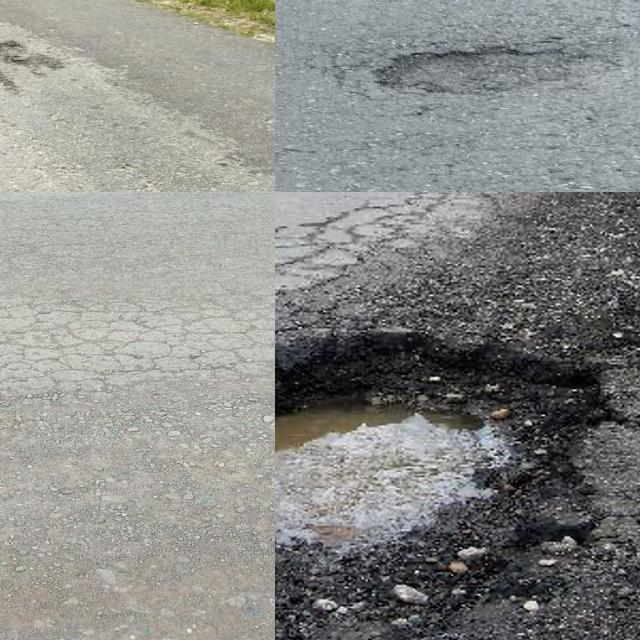Lubang: (275, 334, 582, 612), (379, 42, 618, 101)
Retak Buaya: (0, 300, 275, 397)
